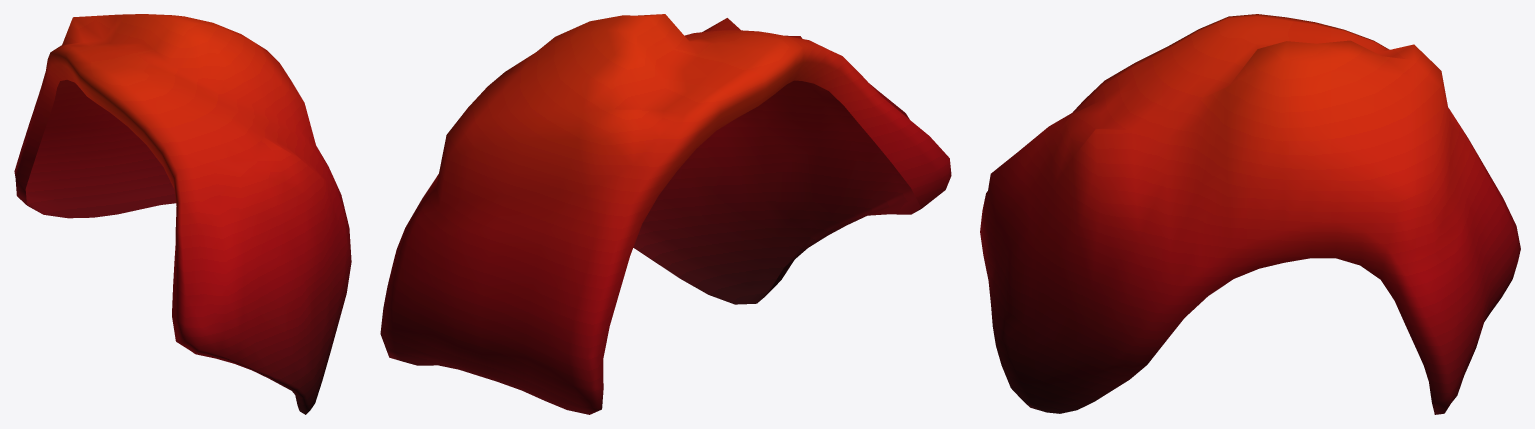
File: Rock Left Shoulder.fbx
The picture shows the model from 3 angles, left to right: view 1: azimuth 30°, elevation 25°; view 2: azimuth 150°, elevation 25°; view 3: azimuth 270°, elevation 25°; orthographic projection. The views are drawn at different scales.
Parts seen in each view (by area): view 1: Hombro_izquierdo; view 2: Hombro_izquierdo; view 3: Hombro_izquierdo.
Boxes of the visible parts, x1,y1,x2,y2 form: Hombro_izquierdo: [14, 14, 351, 414]; Hombro_izquierdo: [380, 14, 951, 414]; Hombro_izquierdo: [980, 14, 1520, 414].
Size of the model in its own units: 0.5926 by 0.6804 by 0.9334.
